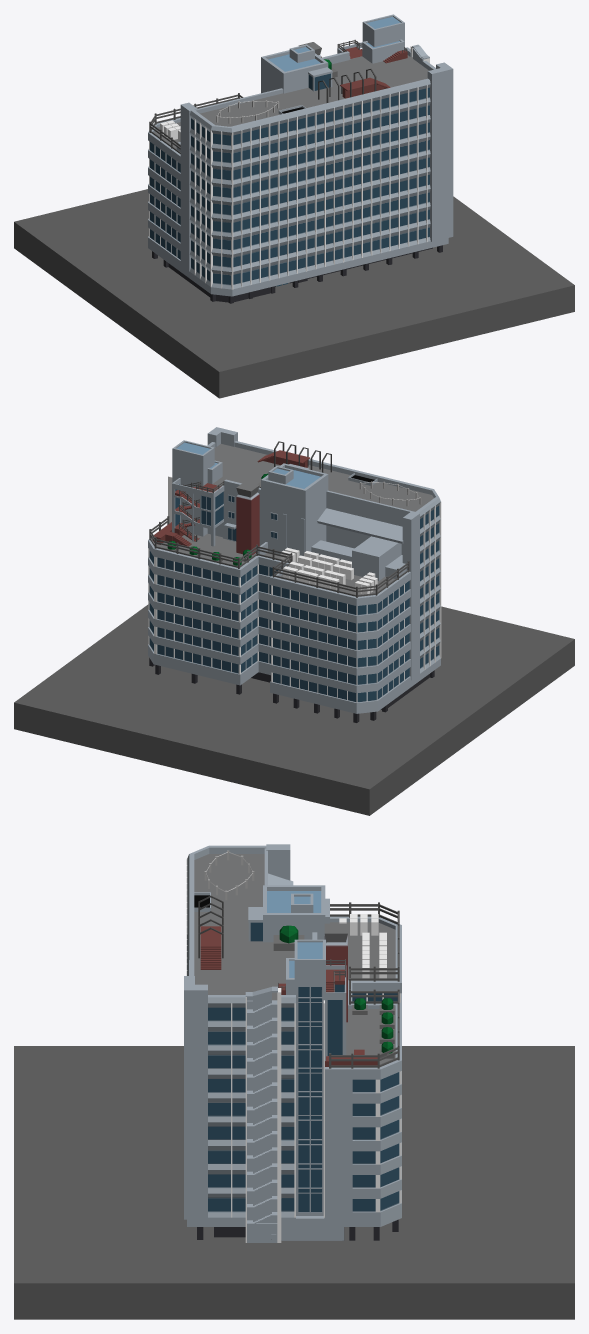
Rendered from jeonil-building.glb.
The picture shows the model from 3 angles, top to bottom: view 1: azimuth 30°, elevation 25°; view 2: azimuth 150°, elevation 25°; view 3: azimuth 270°, elevation 25°; orthographic projection. The views are drawn at different scales.
Parts seen in each view (by area): view 1: a2, a4, a1, a3; view 2: a2, a4, a1, a3; view 3: a4, a2, a3, a1.
Boxes of the visible parts, x1,y1,x2,y2 form: a2: [148, 14, 453, 296]; a4: [14, 39, 574, 398]; a1: [149, 45, 429, 289]; a3: [289, 42, 407, 102]; a2: [148, 427, 440, 713]; a4: [14, 473, 574, 815]; a1: [148, 476, 441, 702]; a3: [152, 441, 331, 565]; a4: [14, 850, 574, 1319]; a2: [184, 844, 401, 1226]; a3: [198, 893, 394, 1066]; a1: [186, 859, 401, 1242].
Bounding box in the file's own units: 140 × 86.63 × 140.
Materials: 4 (4 with a texture image).
